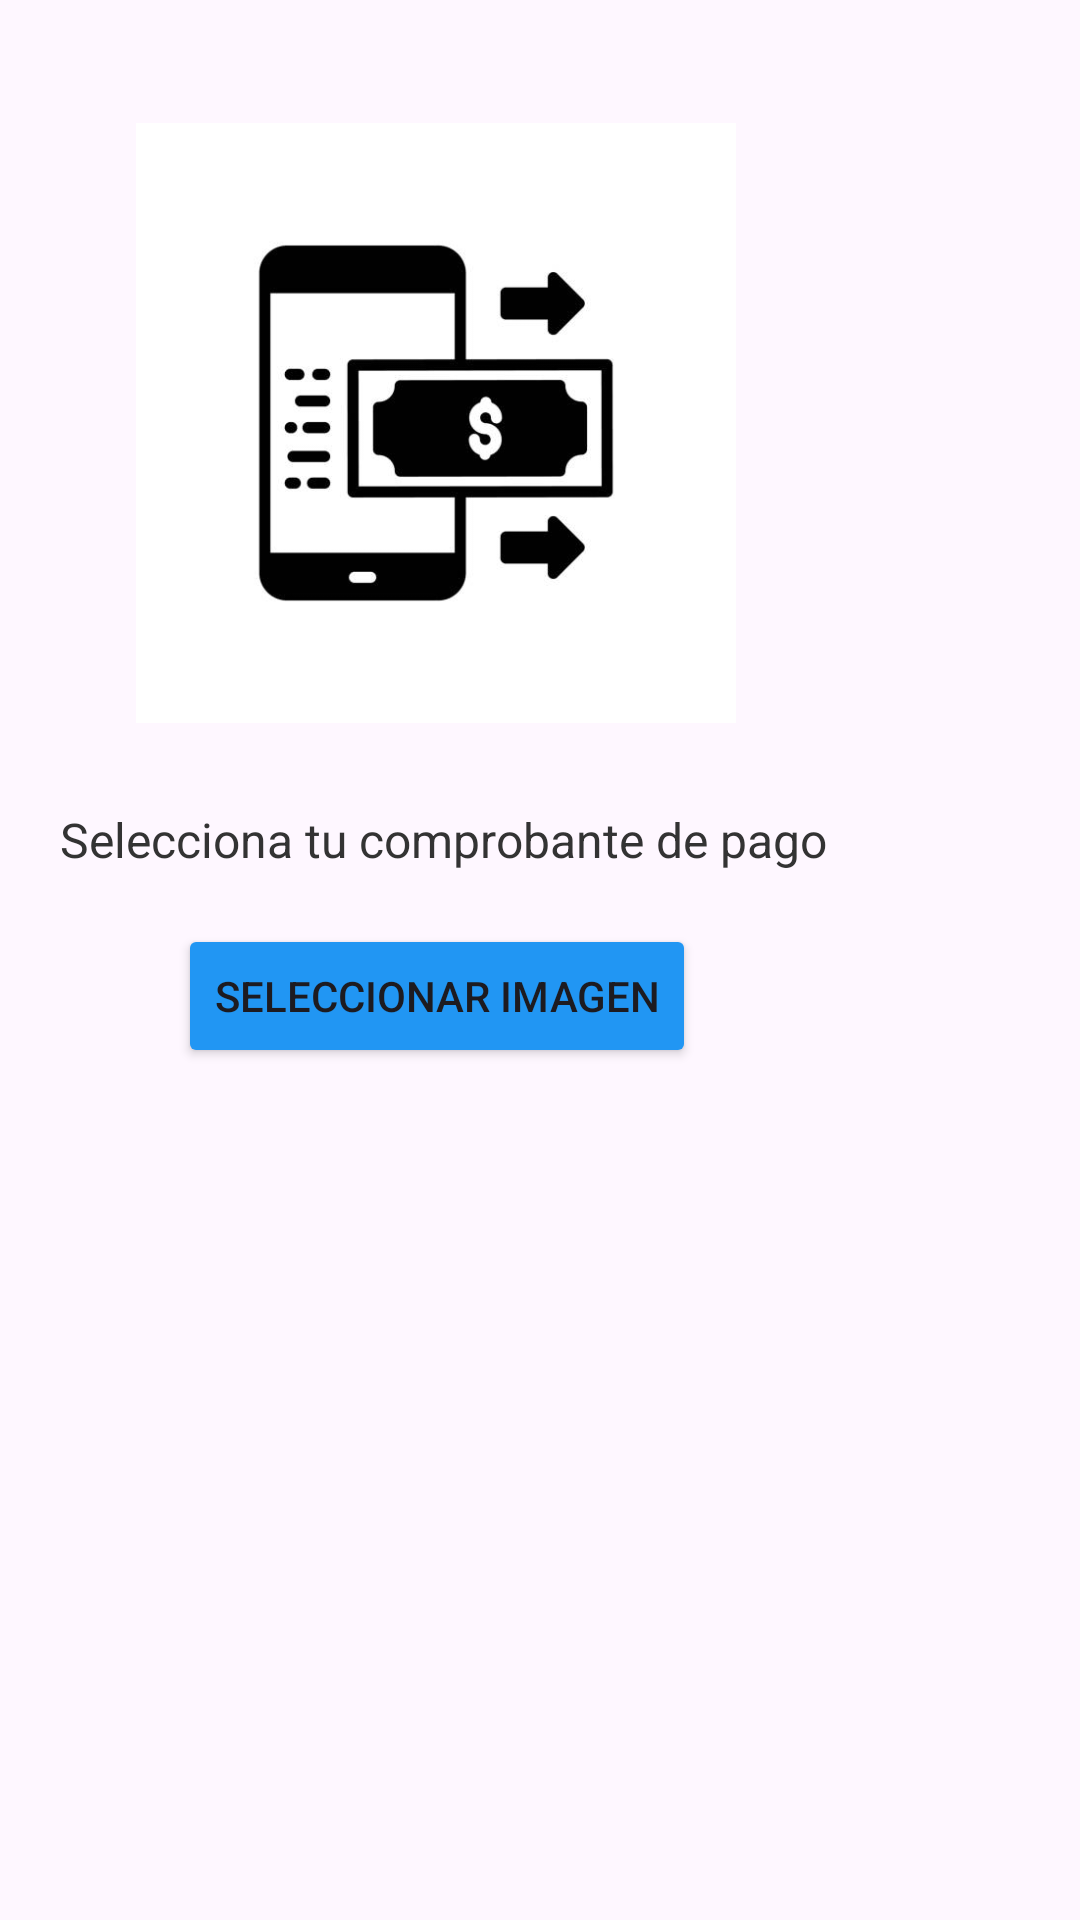

Icons on this 1080px×1920px Android screen, each with the point to tap as [x,y]:
transferencia: [436,423]
